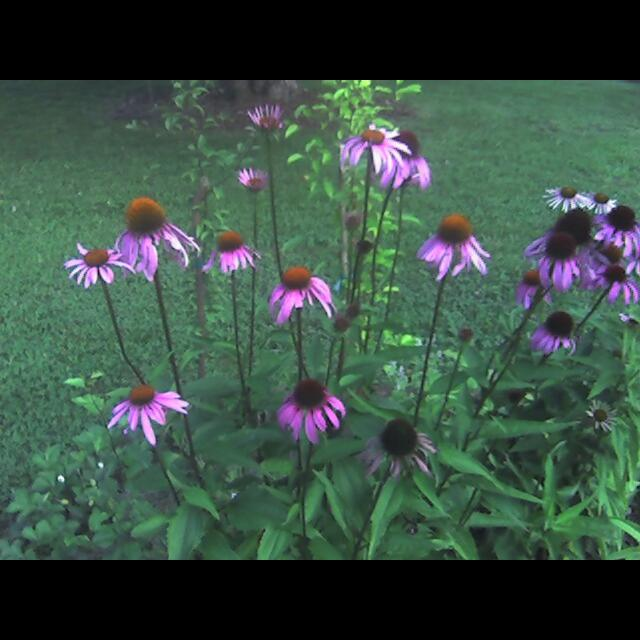Flower: (115, 198, 201, 282), (105, 386, 192, 448), (356, 418, 438, 479), (264, 262, 340, 326), (416, 216, 492, 278), (276, 372, 342, 442), (584, 236, 640, 314), (338, 120, 410, 170), (526, 227, 580, 289), (380, 125, 430, 191), (58, 240, 132, 282), (595, 202, 639, 268), (204, 231, 258, 269), (530, 310, 570, 358), (542, 182, 596, 210), (516, 266, 550, 306), (243, 105, 285, 134), (236, 166, 272, 196), (593, 194, 619, 213)
